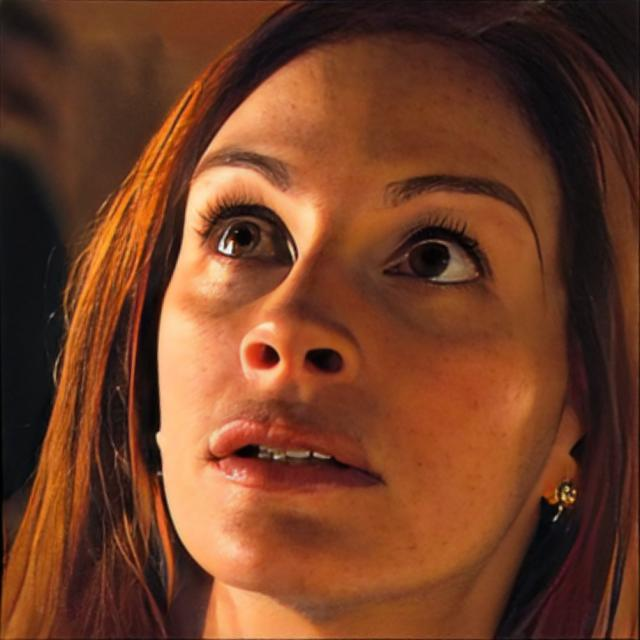fear: (154, 28, 560, 600)
